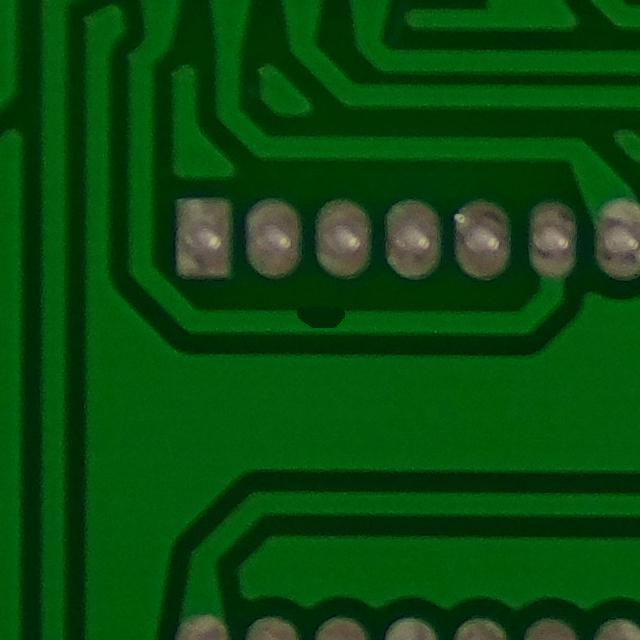mouse_bite: (277, 289, 363, 351)
